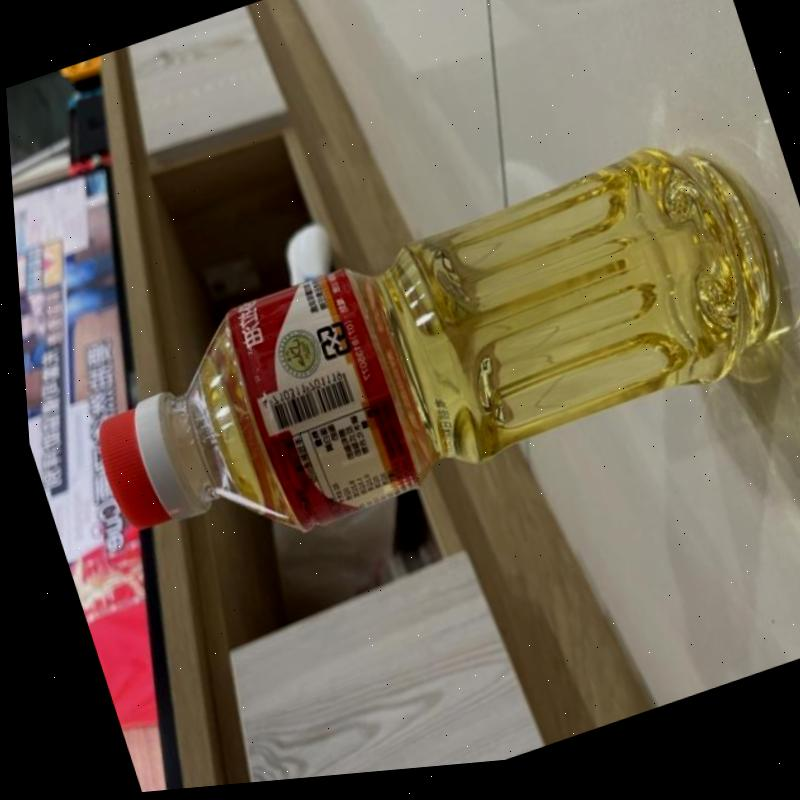botella: (52, 132, 800, 592)
